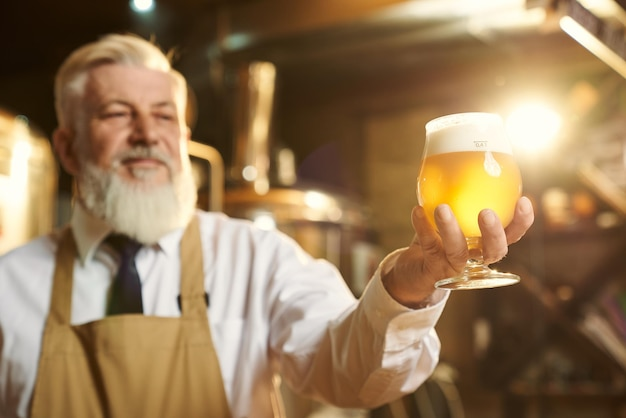alcohol: (416, 110, 528, 289)
